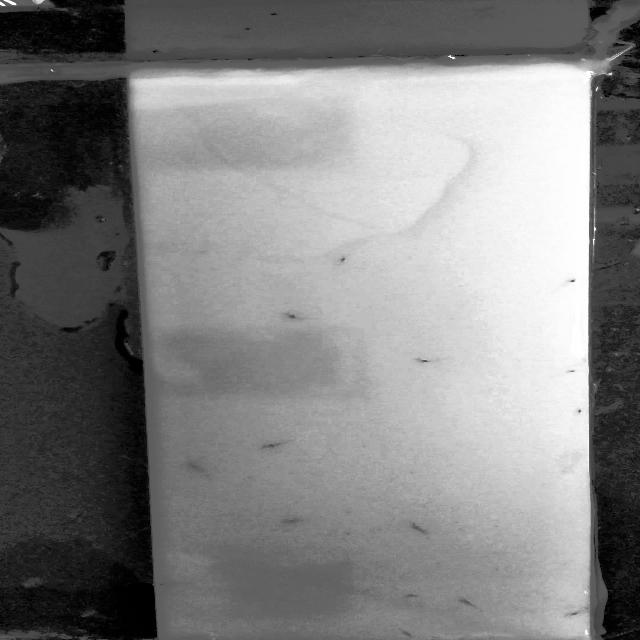shrimp: (182, 462, 214, 478), (395, 624, 423, 640), (254, 440, 297, 450), (149, 580, 196, 589), (453, 597, 483, 611), (407, 521, 437, 534), (275, 516, 309, 527), (332, 252, 354, 266), (396, 590, 426, 600), (560, 273, 580, 288), (280, 310, 309, 320), (411, 353, 432, 364), (561, 609, 585, 617), (573, 406, 587, 416), (564, 369, 580, 375)
